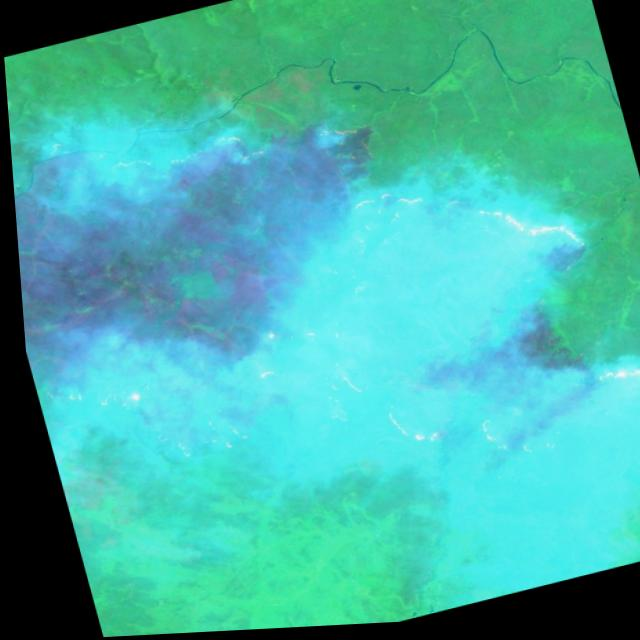fire: (310, 134, 593, 309), (294, 329, 525, 494), (7, 109, 291, 241), (51, 326, 300, 470), (577, 332, 640, 444)
